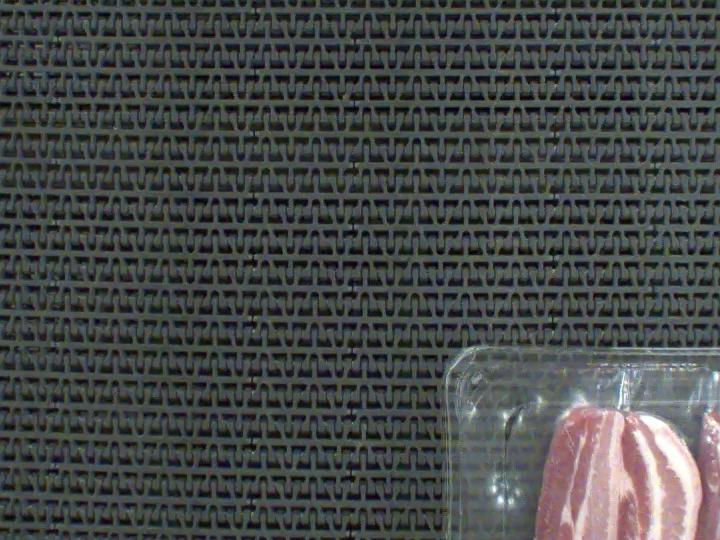unsealed: (499, 383, 720, 540)
